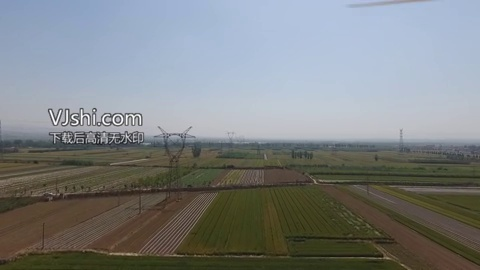tower_body: (152, 121, 198, 207)
tower_foot: (165, 181, 181, 203)
tower_head: (154, 124, 196, 159)
